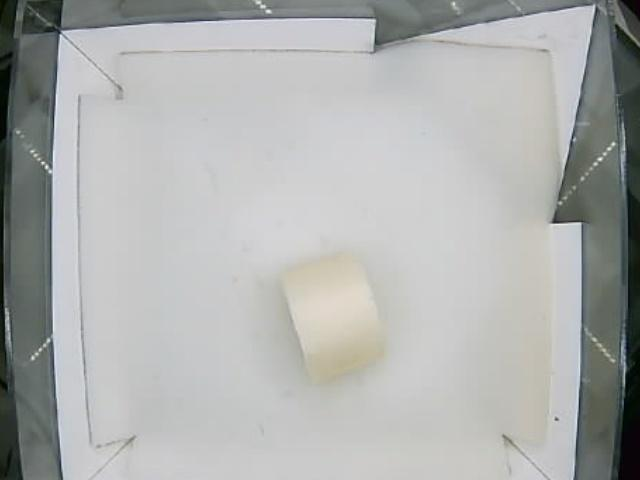Mooli: (278, 250, 383, 378)
